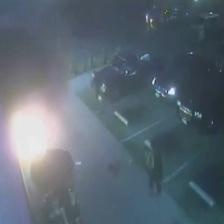fire: (6, 95, 62, 185)
